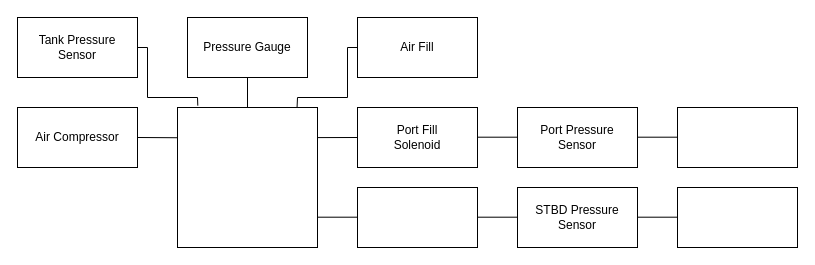
Image size: 815x265. Some labels were removed from this diagram. Here are the shapes that lost their labels. From the top down, the box of each, then its label:
(676, 106, 798, 168): Port Cannon
(176, 106, 318, 248): Main Air Tank
(356, 186, 478, 248): STBD Fill Solenoid
(676, 186, 798, 248): STBD Cannon
